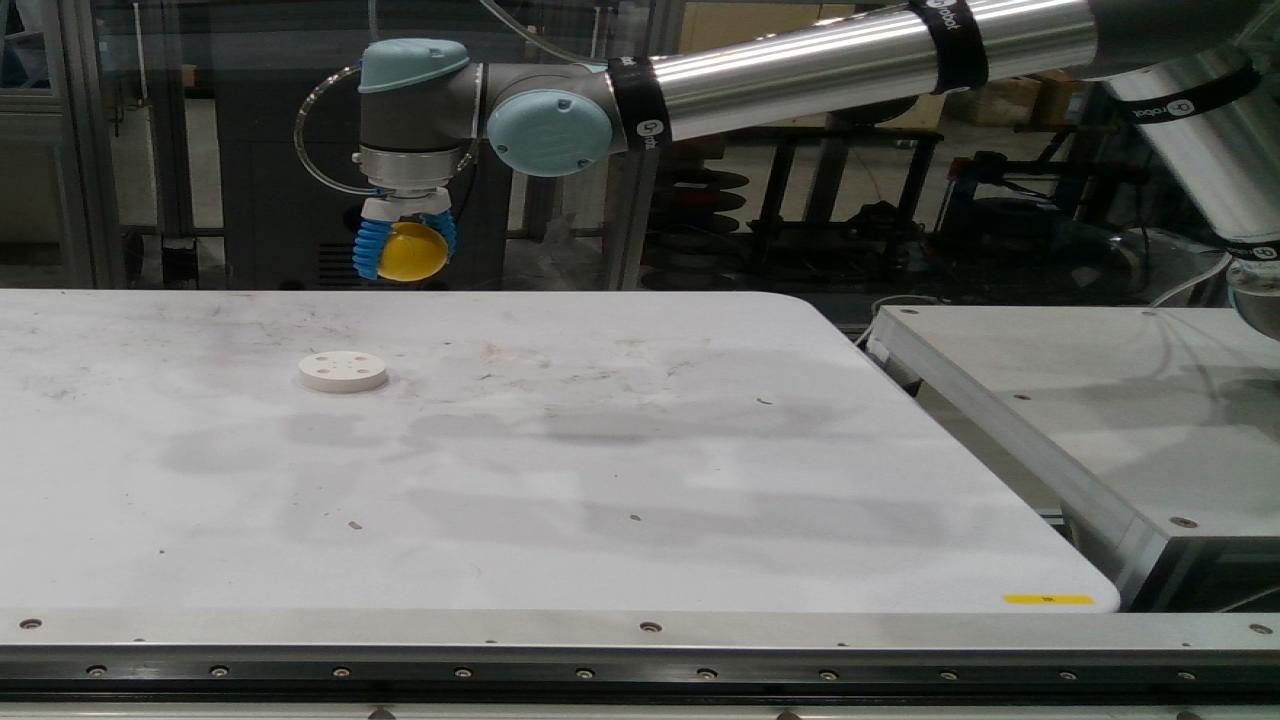UR5: (352, 3, 1272, 325)
gripper_left: (420, 211, 457, 263)
gripper_right: (354, 219, 388, 278)
target: (380, 223, 447, 282), (300, 352, 384, 394)
